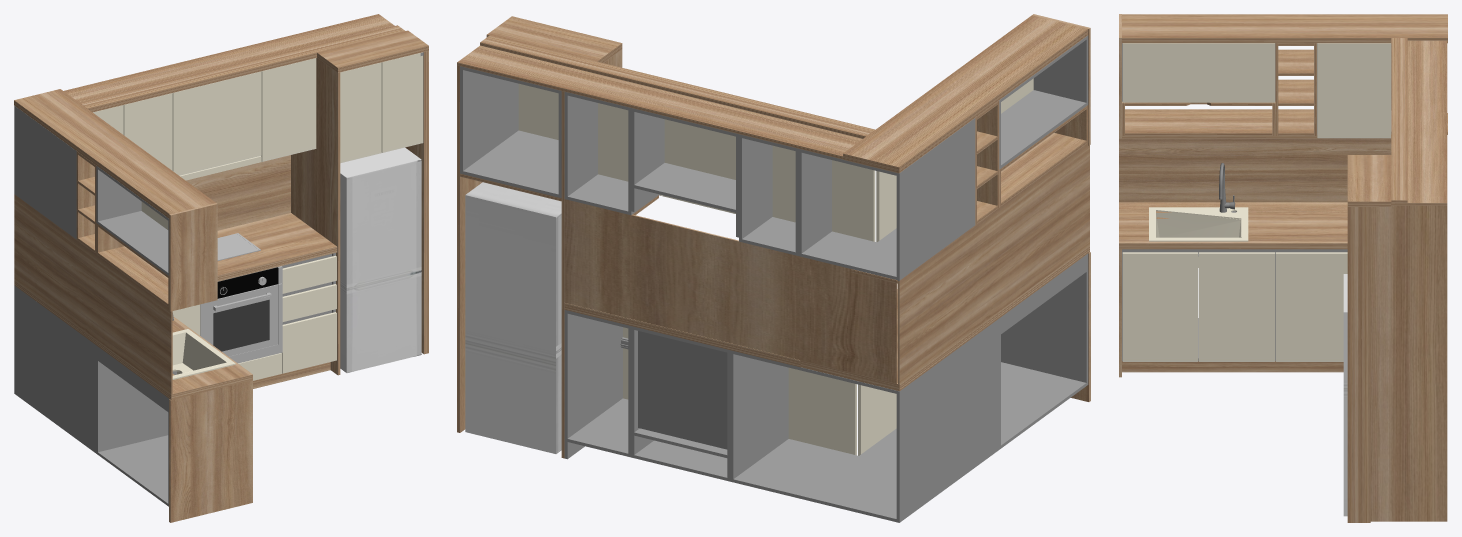
File: FINAL KITCHEN.fbx
3 renders of one model, left to right at view 1: azimuth 30°, elevation 25°; view 2: azimuth 150°, elevation 25°; view 3: azimuth 270°, elevation 25°, orthographic. The views are drawn at different scales.
Visible parts, largest first — view 1: HLADILNIK, pCube248, pCube197, pCube170, pCube215, pCube238, pCube128, Pechka_za_vgrajdane, pCube232, pCube134, pCube216, pCube247 (+28 smaller); view 2: pCube247, HLADILNIK, pCube248, pCube170, pCube238, pCube232, Pechka_za_vgrajdane, pCube186, pCube134, pCube195, pCube184, pCube172 (+37 smaller); view 3: pCube129, pCube248, pCube201, pCube238, pCube227, pCube228, pCube245, pCube229, pCube130, pCube212, pCube232, pCube155 (+13 smaller).
Part boxes in pixels (<box>): HLADILNIK: <box>340,147,421,372</box>; pCube248: <box>14,194,172,394</box>; pCube197: <box>169,380,252,522</box>; pCube170: <box>14,288,94,449</box>; pCube215: <box>172,71,261,175</box>; pCube238: <box>14,89,215,215</box>; pCube128: <box>291,58,340,375</box>; Pechka_za_vgrajdane: <box>200,266,282,363</box>; pCube232: <box>64,14,394,112</box>; pCube134: <box>14,108,75,235</box>; pCube216: <box>261,58,316,161</box>; pCube247: <box>186,155,290,230</box>; pCube247: <box>564,199,897,383</box>; HLADILNIK: <box>465,182,561,453</box>; pCube248: <box>898,143,1089,384</box>; pCube170: <box>896,323,997,519</box>; pCube238: <box>843,15,1088,170</box>; pCube232: <box>457,45,862,159</box>; Pechka_za_vgrajdane: <box>638,331,727,449</box>; pCube186: <box>730,439,954,522</box>; pCube134: <box>896,123,973,280</box>; pCube195: <box>1001,253,1088,382</box>; pCube184: <box>730,350,788,479</box>; pCube172: <box>564,310,622,438</box>; pCube129: <box>1370,205,1447,521</box>; pCube248: <box>1119,135,1391,202</box>; pCube201: <box>1122,43,1274,102</box>; pCube238: <box>1122,14,1447,40</box>; pCube227: <box>1122,252,1198,361</box>; pCube228: <box>1199,252,1274,361</box>; pCube245: <box>1119,202,1347,249</box>; pCube229: <box>1275,252,1347,361</box>; pCube130: <box>1347,207,1370,522</box>; pCube212: <box>1317,43,1390,138</box>; pCube232: <box>1391,40,1447,205</box>; pCube155: <box>1125,109,1272,135</box>.
Bounding box in the file's own units: 2699 × 2157 × 1999.
